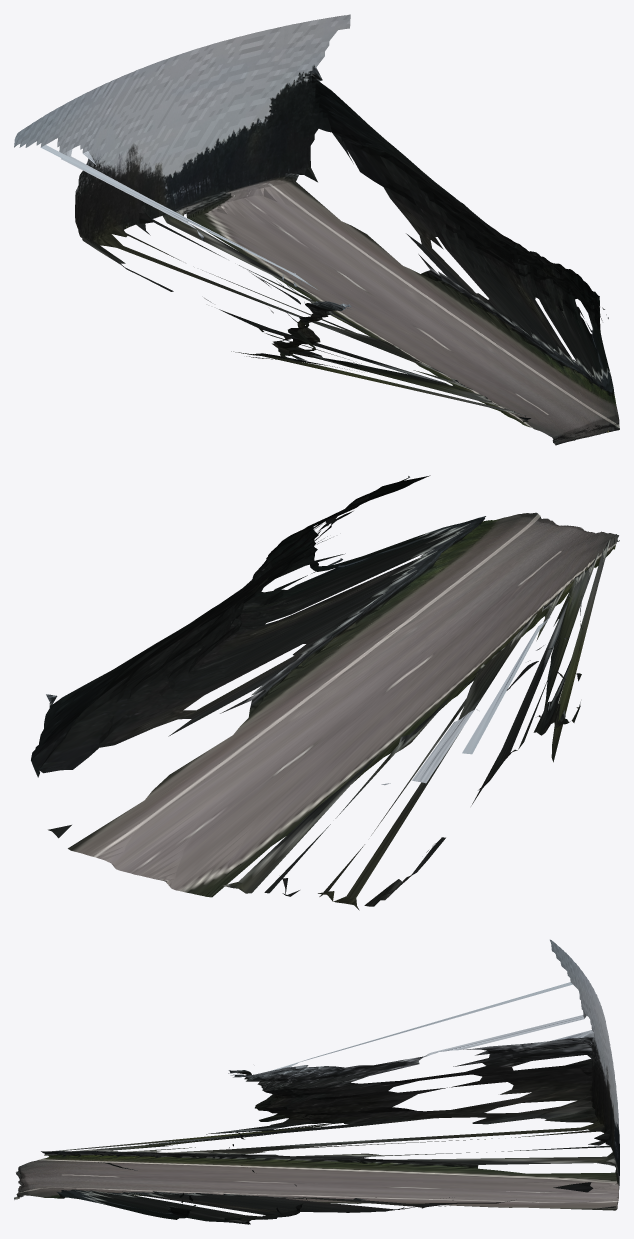
The picture shows the model from 3 angles, top to bottom: view 1: azimuth 30°, elevation 25°; view 2: azimuth 150°, elevation 25°; view 3: azimuth 270°, elevation 25°; orthographic projection. The views are drawn at different scales.
Visible parts, largest first — view 1: defaultobject; view 2: defaultobject; view 3: defaultobject.
Part boxes in pixels (x1,y1,x2,y2): defaultobject: (14, 14, 619, 445); defaultobject: (31, 475, 619, 910); defaultobject: (14, 939, 619, 1224).
Bounding box in the file's own units: 28.94 × 12.54 × 44.51.
Materials: 1 (1 with a texture image).
